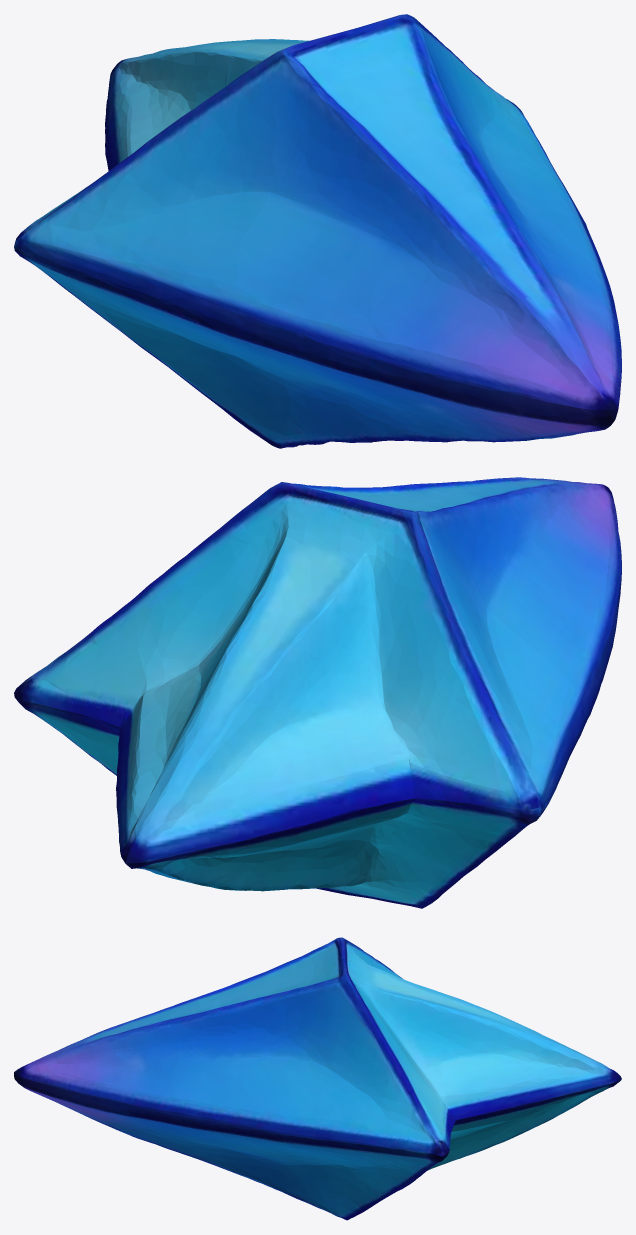
3 views of the same model, one above another, from view 1: azimuth 30°, elevation 25°; view 2: azimuth 150°, elevation 25°; view 3: azimuth 270°, elevation 25° (orthographic). The views are drawn at different scales.
Visible parts, largest first — view 1: world; view 2: world; view 3: world.
Boxes of the visible parts, <box> form: world: <box>14,14,621,448</box>; world: <box>14,477,621,908</box>; world: <box>14,937,621,1220</box>.
Bounding box in the file's own units: 0.6056 × 0.4471 × 0.9955.
1 material, 1 textured.
